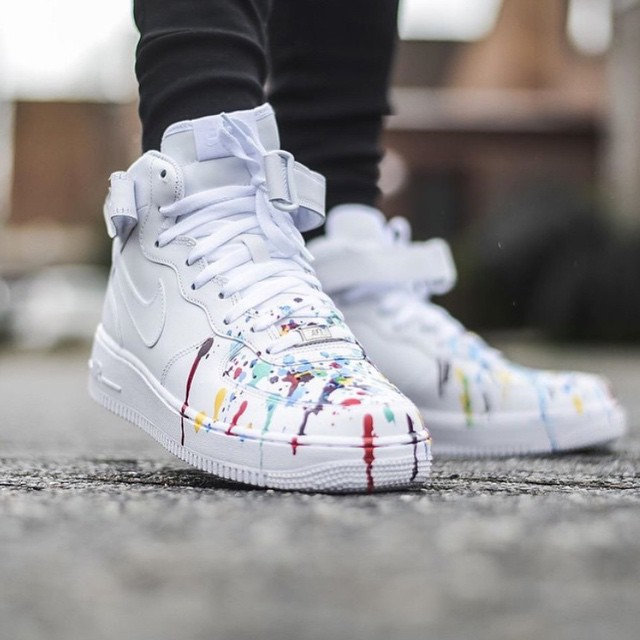sneaker: (54, 94, 454, 517), (254, 187, 639, 465)
